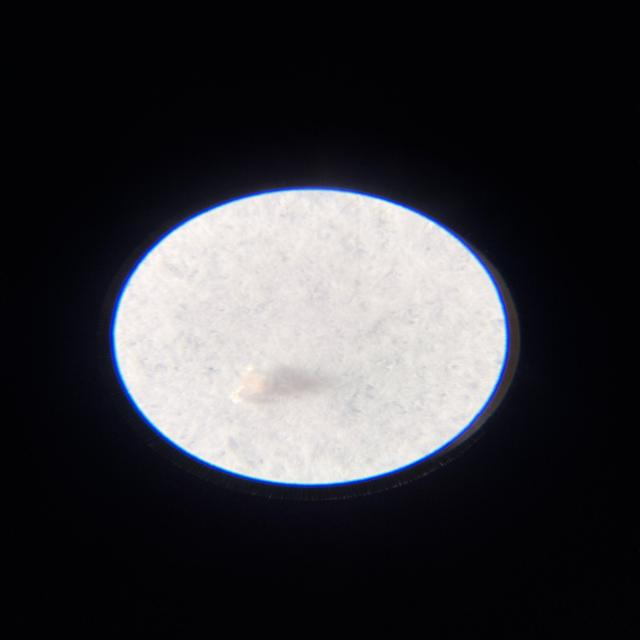microplastic_type_1: (230, 362, 323, 419)
